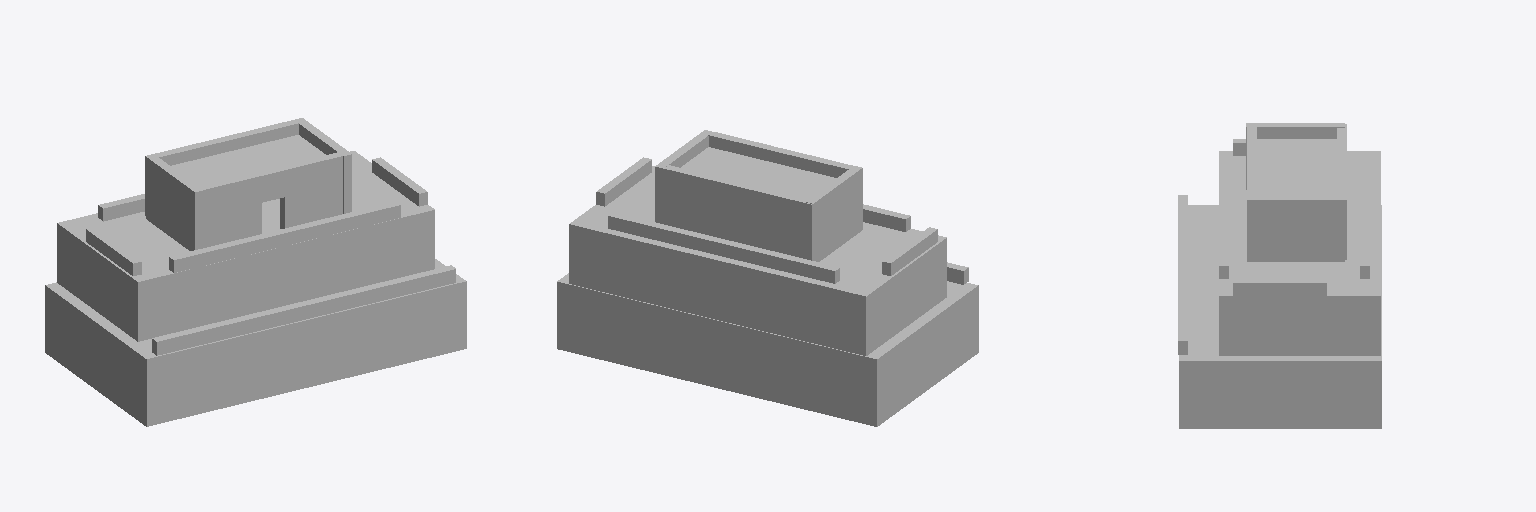
Rendered from castle_interior_bBoxes.obj.
3 renders of one model, left to right at view 1: azimuth 30°, elevation 25°; view 2: azimuth 150°, elevation 25°; view 3: azimuth 270°, elevation 25°, orthographic.
Parts seen in each view (by area): view 1: Cube_Cube.019, Cube.001_Cube.020, Cube.013_Cube.032, Cube.009_Cube.000, Cube.002_Cube.021, Cube.004_Cube.023, Cube.009_Cube.028, Cube.008_Cube.027, Cube.007_Cube.026, Cube.005_Cube.024, Cube.003_Cube.022, Cube.011_Cube.030 (+3 smaller); view 2: Cube_Cube.019, Cube.001_Cube.020, Cube.008_Cube.027, Cube.010_Cube.029, Cube.009_Cube.028, Cube.002_Cube.021, Cube.012_Cube.031, Cube.011_Cube.030, Cube.005_Cube.024, Cube.004_Cube.023, Cube.009_Cube.000, Cube.003_Cube.022; view 3: Cube_Cube.019, Cube.001_Cube.020, Cube.003_Cube.022, Cube.009_Cube.028, Cube.013_Cube.032, Cube.012_Cube.031, Cube.002_Cube.021, Cube.010_Cube.029, Cube.009_Cube.000, Cube.008_Cube.027.
Part boxes in pixels (x1,y1,x2,y2): Cube_Cube.019: (45, 259, 466, 426); Cube.001_Cube.020: (57, 151, 434, 341); Cube.013_Cube.032: (152, 265, 455, 355); Cube.009_Cube.000: (169, 201, 400, 272); Cube.002_Cube.021: (146, 154, 203, 250); Cube.004_Cube.023: (198, 172, 261, 247); Cube.009_Cube.028: (171, 135, 325, 185); Cube.008_Cube.027: (145, 118, 300, 215); Cube.007_Cube.026: (293, 168, 342, 225); Cube.005_Cube.024: (280, 152, 343, 228); Cube.003_Cube.022: (295, 118, 351, 213); Cube.011_Cube.030: (86, 227, 141, 275); Cube_Cube.019: (557, 273, 978, 426); Cube.001_Cube.020: (569, 166, 946, 355); Cube.008_Cube.027: (655, 165, 812, 260); Cube.010_Cube.029: (608, 212, 839, 283); Cube.009_Cube.028: (681, 147, 835, 198); Cube.002_Cube.021: (805, 166, 862, 261); Cube.012_Cube.031: (596, 157, 651, 206); Cube.011_Cube.030: (882, 227, 937, 275); Cube.005_Cube.024: (708, 132, 770, 160); Cube.004_Cube.023: (791, 152, 852, 177); Cube.009_Cube.000: (863, 204, 910, 231); Cube.003_Cube.022: (656, 130, 711, 167); Cube_Cube.019: (1179, 205, 1381, 428); Cube.001_Cube.020: (1219, 151, 1380, 355); Cube.003_Cube.022: (1247, 196, 1344, 261); Cube.009_Cube.028: (1257, 139, 1336, 195); Cube.013_Cube.032: (1178, 195, 1187, 354); Cube.012_Cube.031: (1233, 279, 1326, 295); Cube.002_Cube.021: (1246, 123, 1344, 189); Cube.010_Cube.029: (1360, 156, 1369, 278); Cube.009_Cube.000: (1219, 156, 1228, 278); Cube.008_Cube.027: (1337, 124, 1346, 259).
Bounding box in the file's own units: 41.76 × 23.69 × 22.99.